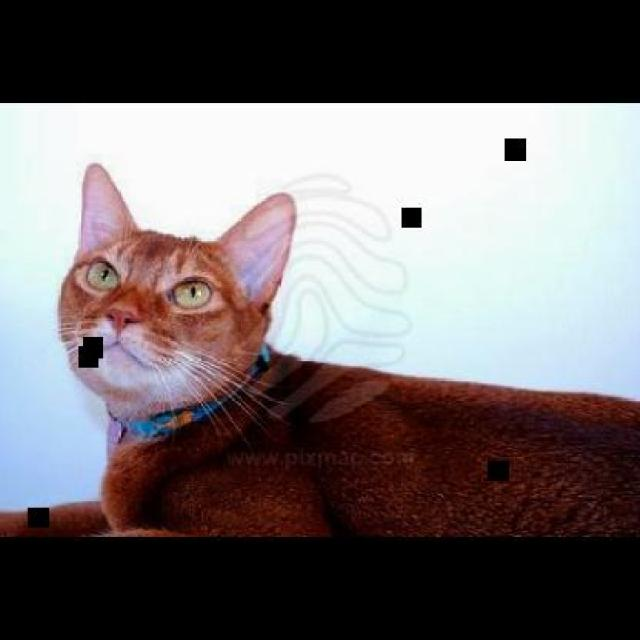unauthorized: (52, 160, 638, 538), (52, 160, 334, 537)
